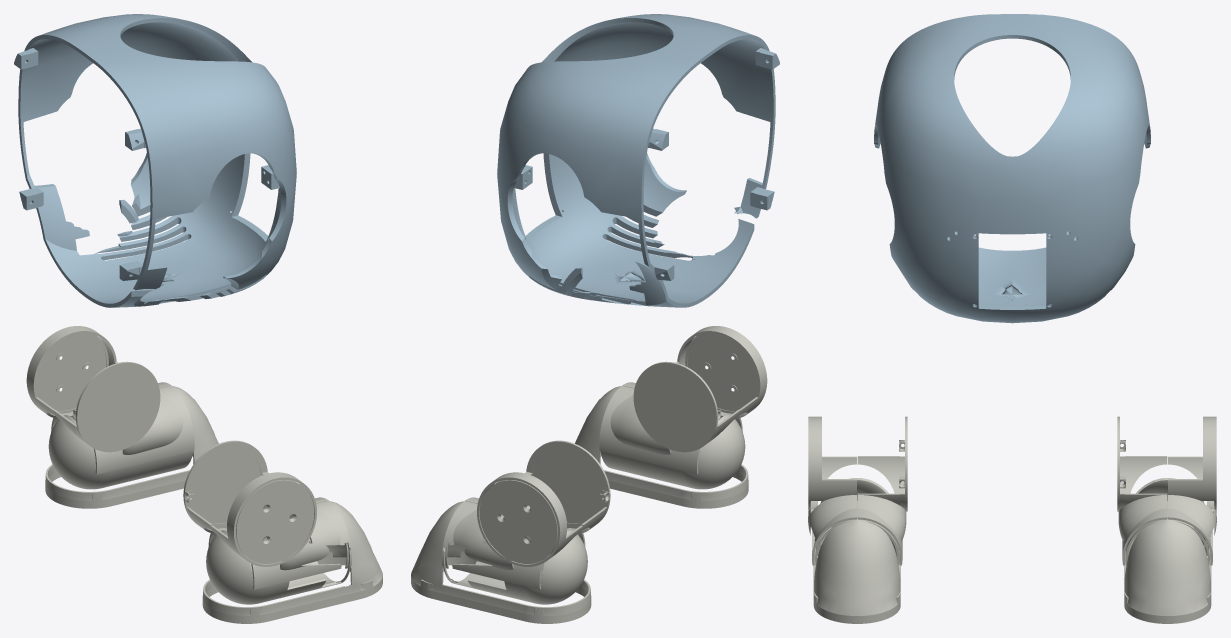
File: seven_same08_native_skins_same_material_review.glb
3 renders of one model, left to right at view 1: azimuth 30°, elevation 25°; view 2: azimuth 150°, elevation 25°; view 3: azimuth 270°, elevation 25°, orthographic.
Visible parts, largest first — view 1: front_main_shell, right_visible_AP_outboard_coaxial_service_shell_clearance_00, left_visible_AP_inboard_coaxial_service_shell_clearance_009_, right_integrated_AR_shoe_crown_continuous_009_c03, left_integrated_AR_shoe_crown_continuous_009_c03, left_visible_AP_outboard_coaxial_service_shell_clearance_009, right_visible_AP_inboard_coaxial_service_shell_clearance_009; view 2: front_main_shell, left_visible_AP_outboard_coaxial_service_shell_clearance_009, right_visible_AP_inboard_coaxial_service_shell_clearance_009, left_integrated_AR_shoe_crown_continuous_009_c03, right_integrated_AR_shoe_crown_continuous_009_c03, right_visible_AP_outboard_coaxial_service_shell_clearance_00, left_visible_AP_inboard_coaxial_service_shell_clearance_009_; view 3: front_main_shell, left_integrated_AR_shoe_crown_continuous_009_c03, right_integrated_AR_shoe_crown_continuous_009_c03, left_visible_AP_outboard_coaxial_service_shell_clearance_009, right_visible_AP_outboard_coaxial_service_shell_clearance_00, right_visible_AP_inboard_coaxial_service_shell_clearance_009, left_visible_AP_inboard_coaxial_service_shell_clearance_009_.
Boxes of the visible parts, x1=… form: front_main_shell: x1=14, y1=14, x2=296, y2=307; right_visible_AP_outboard_coaxial_service_shell_clearance_00: x1=211, y1=472, x2=351, y2=589; left_visible_AP_inboard_coaxial_service_shell_clearance_009_: x1=53, y1=361, x2=194, y2=474; right_integrated_AR_shoe_crown_continuous_009_c03: x1=202, y1=501, x2=382, y2=623; left_integrated_AR_shoe_crown_continuous_009_c03: x1=45, y1=386, x2=218, y2=508; left_visible_AP_outboard_coaxial_service_shell_clearance_009: x1=26, y1=326, x2=171, y2=432; right_visible_AP_inboard_coaxial_service_shell_clearance_009: x1=183, y1=440, x2=328, y2=547; front_main_shell: x1=497, y1=14, x2=779, y2=307; left_visible_AP_outboard_coaxial_service_shell_clearance_009: x1=442, y1=472, x2=582, y2=589; right_visible_AP_inboard_coaxial_service_shell_clearance_009: x1=599, y1=361, x2=740, y2=474; left_integrated_AR_shoe_crown_continuous_009_c03: x1=411, y1=501, x2=591, y2=623; right_integrated_AR_shoe_crown_continuous_009_c03: x1=575, y1=386, x2=748, y2=508; right_visible_AP_outboard_coaxial_service_shell_clearance_00: x1=622, y1=326, x2=767, y2=432; left_visible_AP_inboard_coaxial_service_shell_clearance_009_: x1=465, y1=440, x2=610, y2=547; front_main_shell: x1=874, y1=14, x2=1150, y2=323; left_integrated_AR_shoe_crown_continuous_009_c03: x1=1124, y1=478, x2=1211, y2=623; right_integrated_AR_shoe_crown_continuous_009_c03: x1=813, y1=478, x2=900, y2=623; left_visible_AP_outboard_coaxial_service_shell_clearance_009: x1=1168, y1=416, x2=1216, y2=565; right_visible_AP_outboard_coaxial_service_shell_clearance_00: x1=808, y1=416, x2=856, y2=565; right_visible_AP_inboard_coaxial_service_shell_clearance_009: x1=857, y1=416, x2=907, y2=565; left_visible_AP_inboard_coaxial_service_shell_clearance_009_: x1=1117, y1=416, x2=1167, y2=565.
Size of the model in its own units: 0.2065 by 0.4509 by 0.3292.
